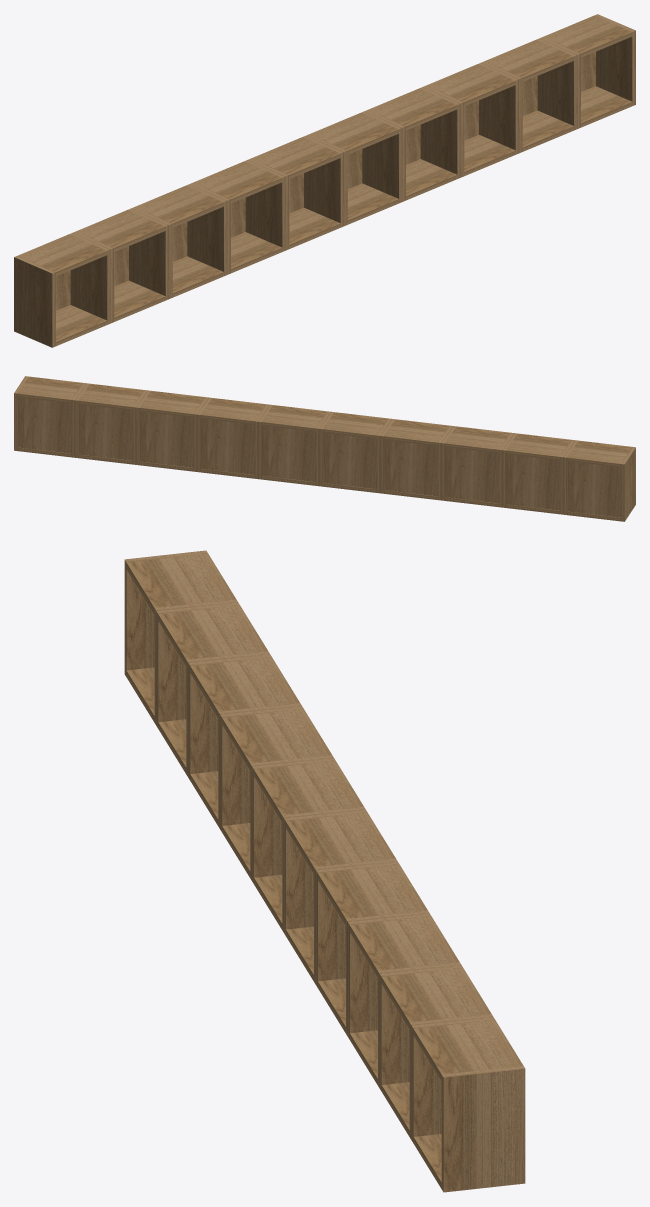
Rendered from cubby.obj.
3 renders of one model, top to bottom at view 1: azimuth 30°, elevation 25°; view 2: azimuth 150°, elevation 25°; view 3: azimuth 270°, elevation 25°, orthographic. The views are drawn at different scales.
Parts seen in each view (by area): view 1: Object_4.001; view 2: Object_4.001; view 3: Object_4.001.
Boxes of the visible parts, x1,y1,x2,y2 form: Object_4.001: [14, 14, 635, 347]; Object_4.001: [14, 376, 635, 521]; Object_4.001: [124, 550, 525, 1192].
Bounding box in the file's own units: 0.2814 × 0.0286 × 0.0904.
